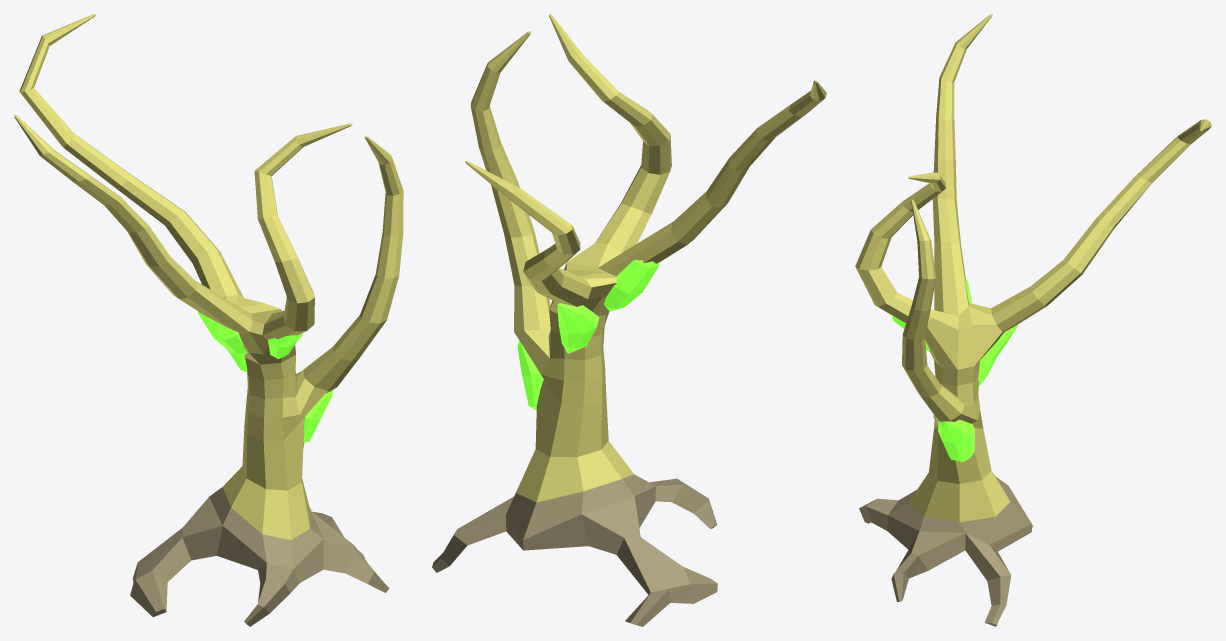
The model's file is Tree_19_Var_04.fbx.
3 renders of one model, left to right at view 1: azimuth 30°, elevation 25°; view 2: azimuth 150°, elevation 25°; view 3: azimuth 270°, elevation 25°, orthographic. The views are drawn at different scales.
Parts seen in each view (by area): view 1: Tree_19_Var_04; view 2: Tree_19_Var_04; view 3: Tree_19_Var_04.
Boxes of the visible parts, <box> form: Tree_19_Var_04: <box>14,14,403,626</box>; Tree_19_Var_04: <box>432,14,826,626</box>; Tree_19_Var_04: <box>855,14,1211,626</box>.
Bounding box in the file's own units: 4.37 × 6.3 × 4.36.
